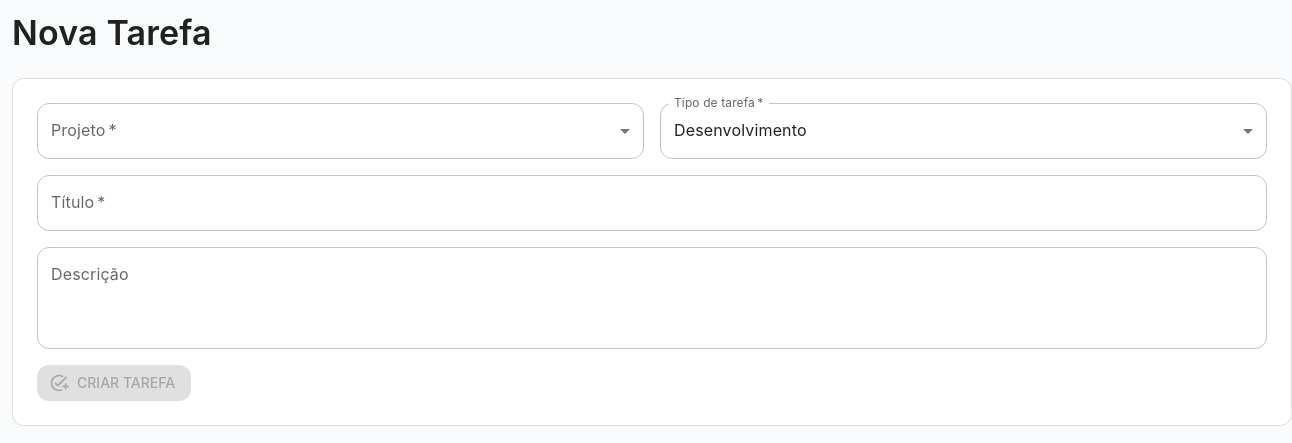
Test case: NovaTarefaScreen › exibe botão enviar desabilitado enquanto falta campo obrigatório
Click the 1st dropdown.
click(340, 131)  # box [37,103,644,159]
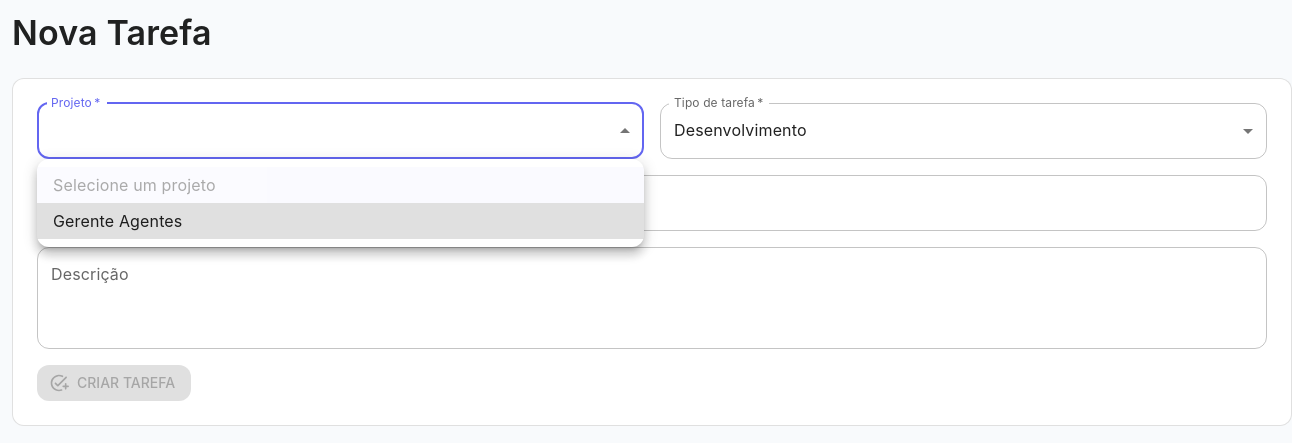
Click the option "Gerente Agentes".
click(118, 221)  # box [37,203,644,239]
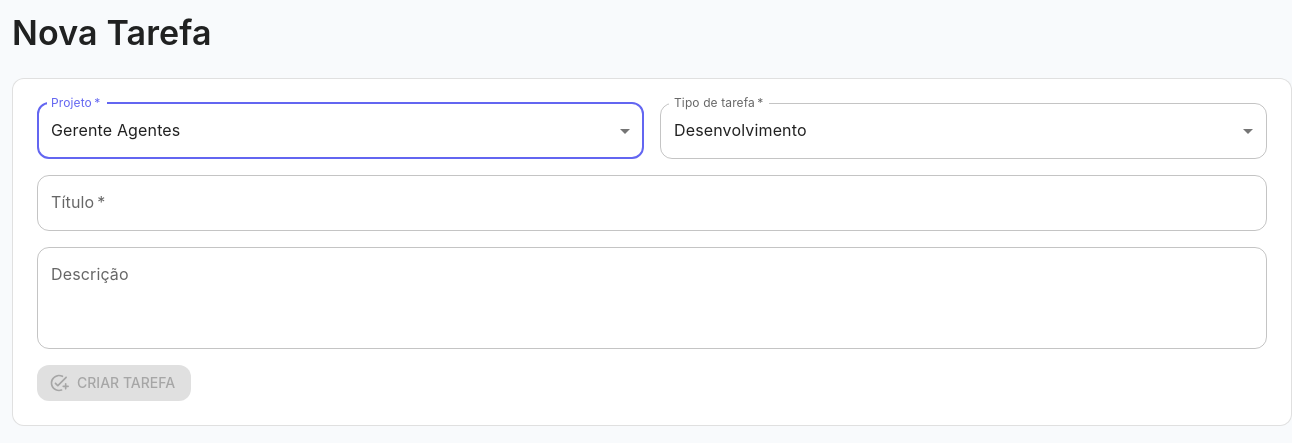
Expected: the button with test id "btn-enviar" is disabled, [37,365,191,402]
Type "Tarefa de teste" into the field with test id "input-titulo".
click(652, 203); type("Tarefa de teste")  # box [37,175,1267,231]
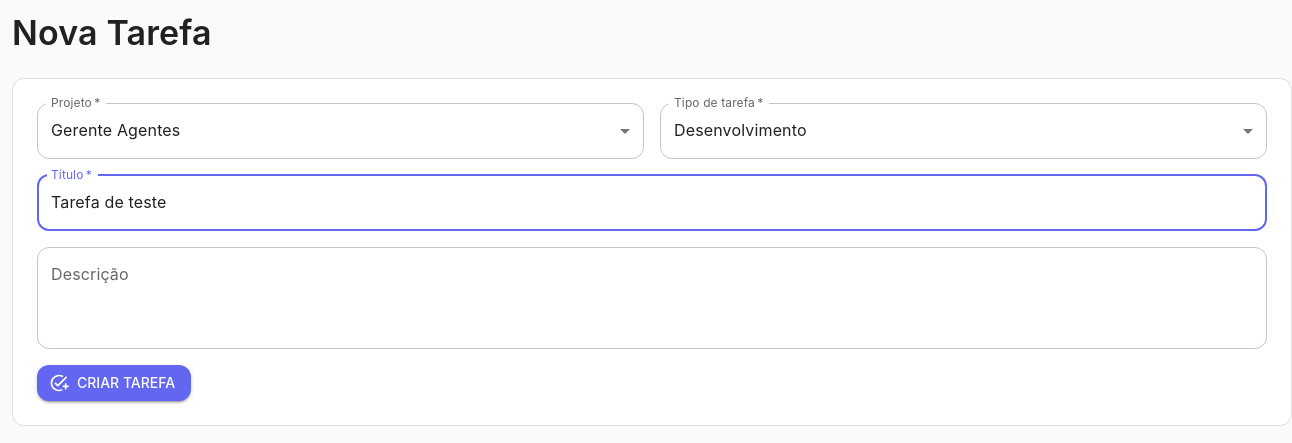
Result: the button with test id "btn-enviar" is enabled at [37,365,191,402]
